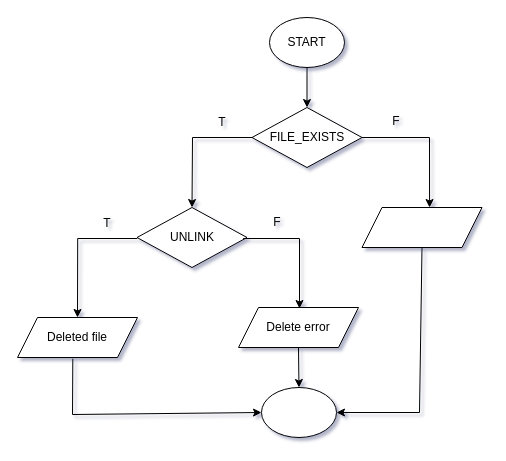
Some shapes in this 506 by 461 pixel diagram are drawn without their labels. The shapes that lost their labels are listed below. From the top down, each one's centre as x and y in pixels, then its label:
At (x=421, y=227): "Nonexistent file".
At (x=298, y=412): "END".
